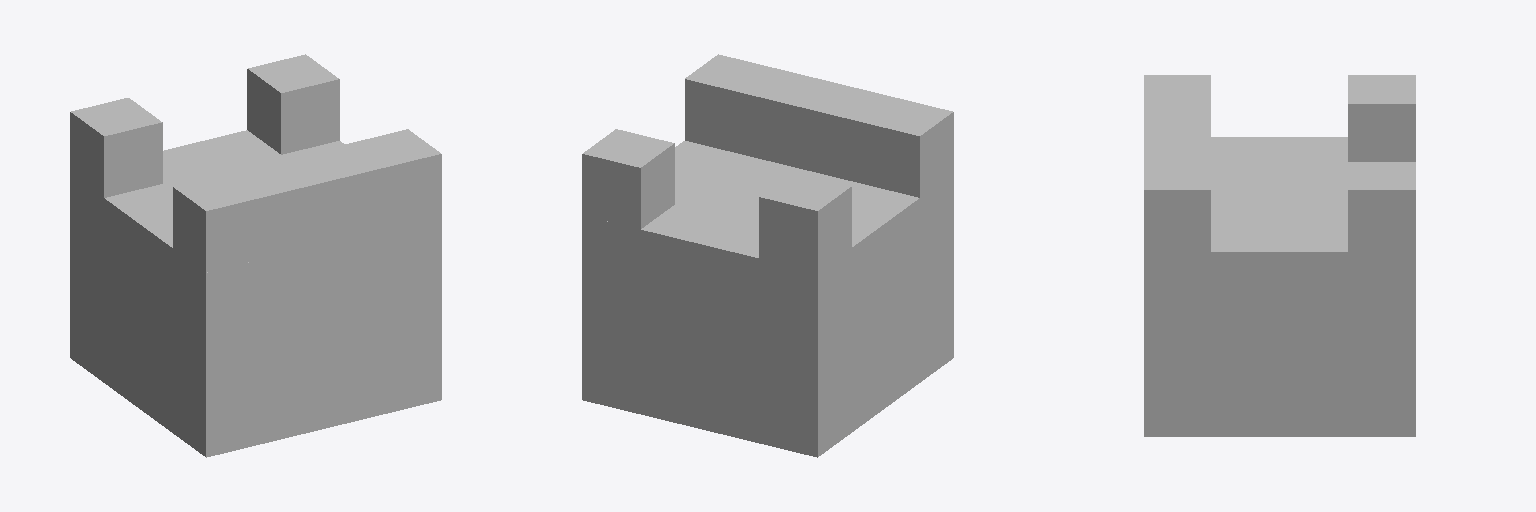
File: pieceT.obj
3 views of the same model, side by side, from view 1: azimuth 30°, elevation 25°; view 2: azimuth 150°, elevation 25°; view 3: azimuth 270°, elevation 25° (orthographic).
Visible parts, largest first — view 1: Cube.001_Cube.003, Cube_Cube.005; view 2: Cube.001_Cube.003, Cube_Cube.005; view 3: Cube.001_Cube.003, Cube_Cube.005.
Part boxes in pixels (x1,y1,x2,y2): Cube.001_Cube.003: (70, 130, 441, 457); Cube_Cube.005: (70, 54, 441, 272); Cube.001_Cube.003: (582, 141, 953, 457); Cube_Cube.005: (582, 54, 953, 272); Cube.001_Cube.003: (1144, 137, 1415, 436); Cube_Cube.005: (1144, 75, 1415, 251).
Bounding box in the file's own units: 2 × 2 × 2.